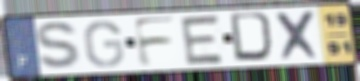D: (228, 11, 280, 65)
E: (179, 13, 227, 67)
F: (131, 15, 178, 69)
G: (82, 19, 126, 69)
S: (32, 20, 86, 73)
X: (273, 9, 325, 63)
